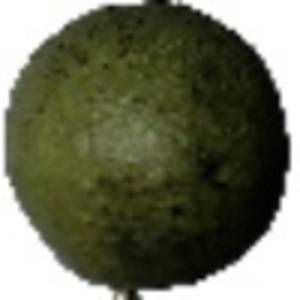abacate: (3, 3, 289, 291)
